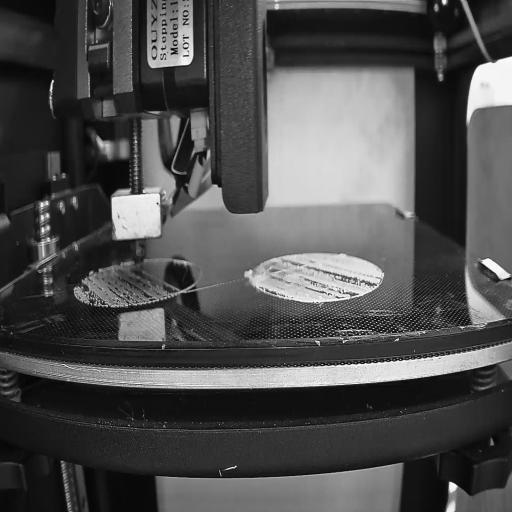under_extrusion: (76, 261, 182, 306), (259, 258, 382, 296)
